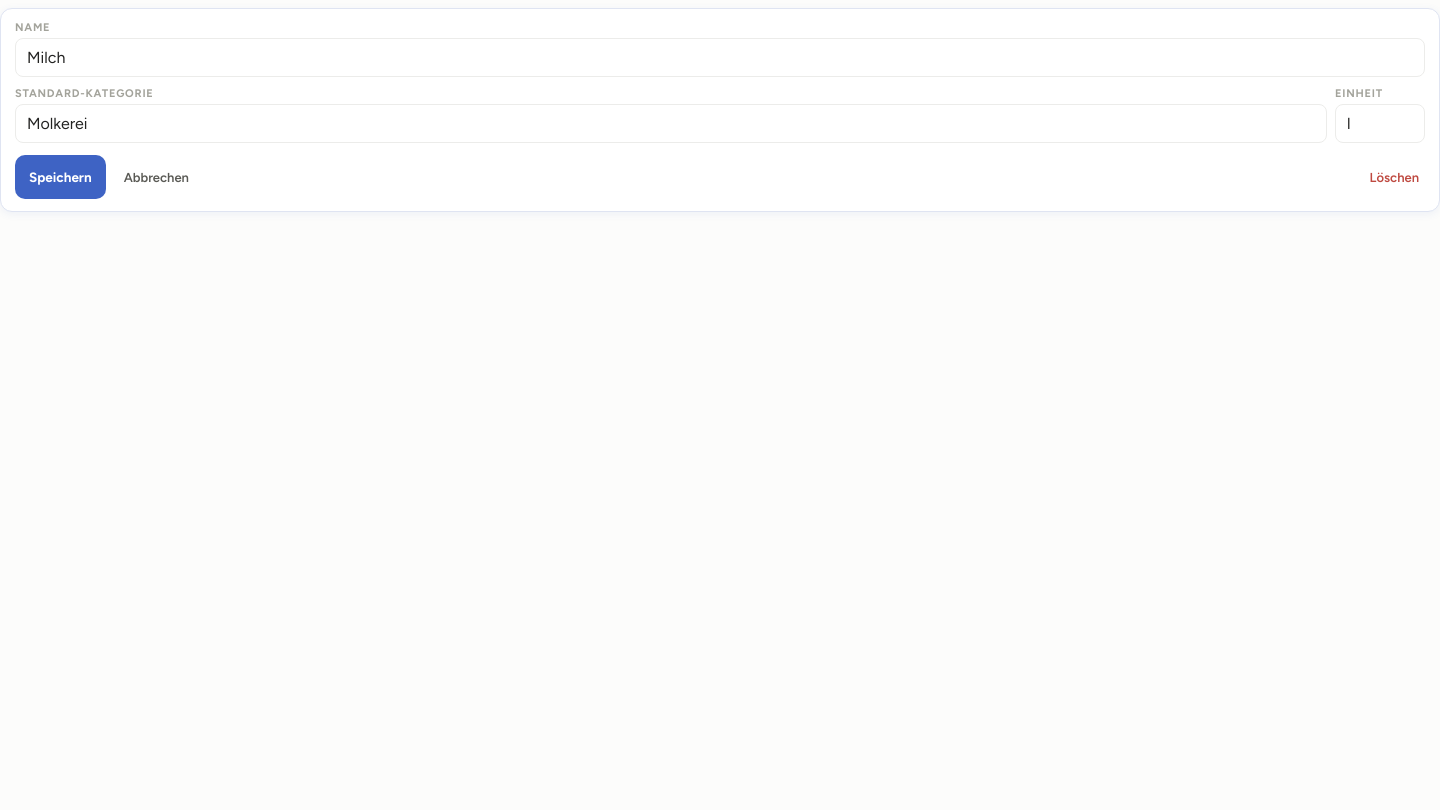
Test case: CatalogEditPanel › asks for confirmation before deleting
Step 1. Click the button "Löschen" → (1394, 177), box [1364,168,1425,186]
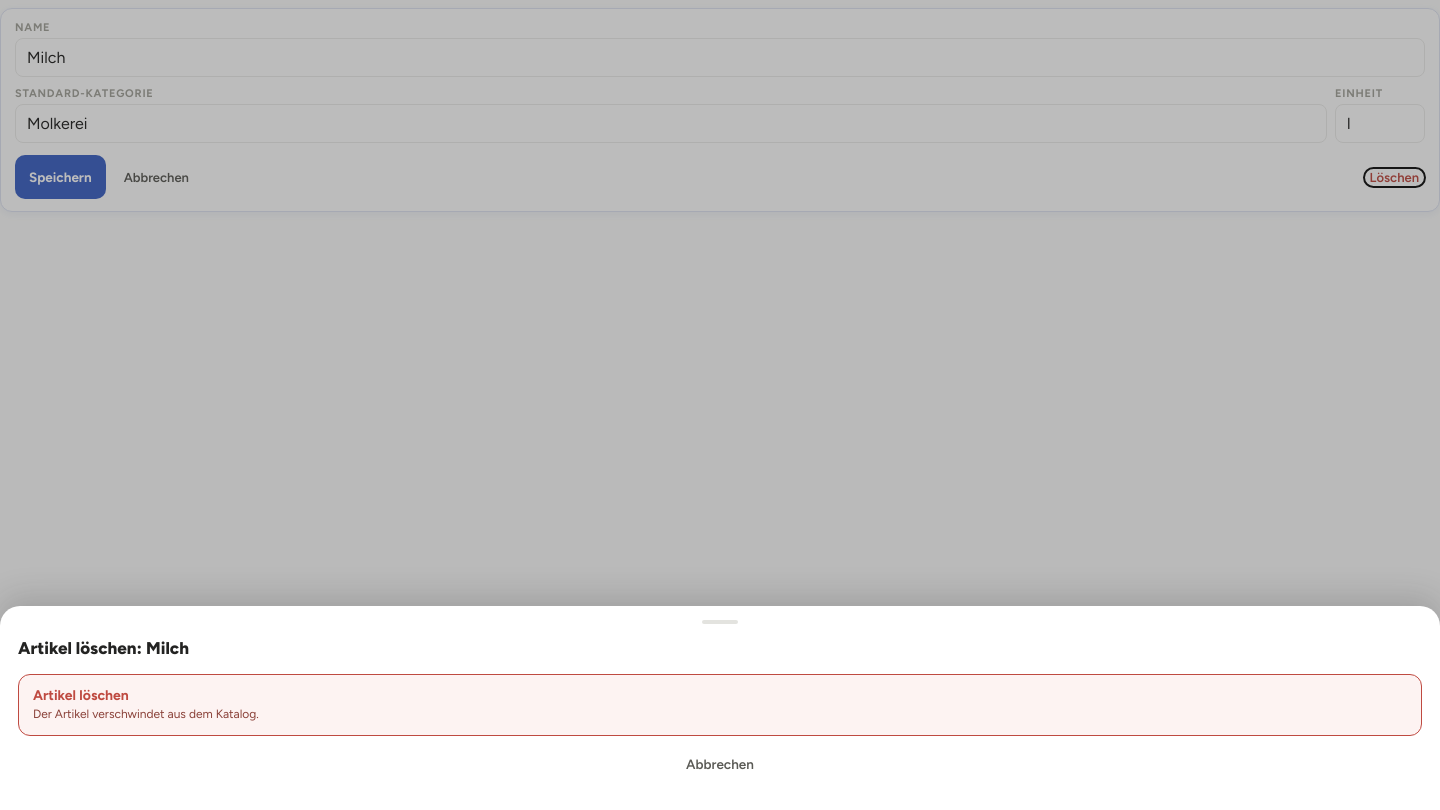
Check: the dialog "Artikel löschen: Milch" is shown, box [0,606,1439,809]
Step 2. Click the button "Artikel löschen Der Artikel verschwindet aus dem Katalog." → (81, 695), box [18,674,1422,736]
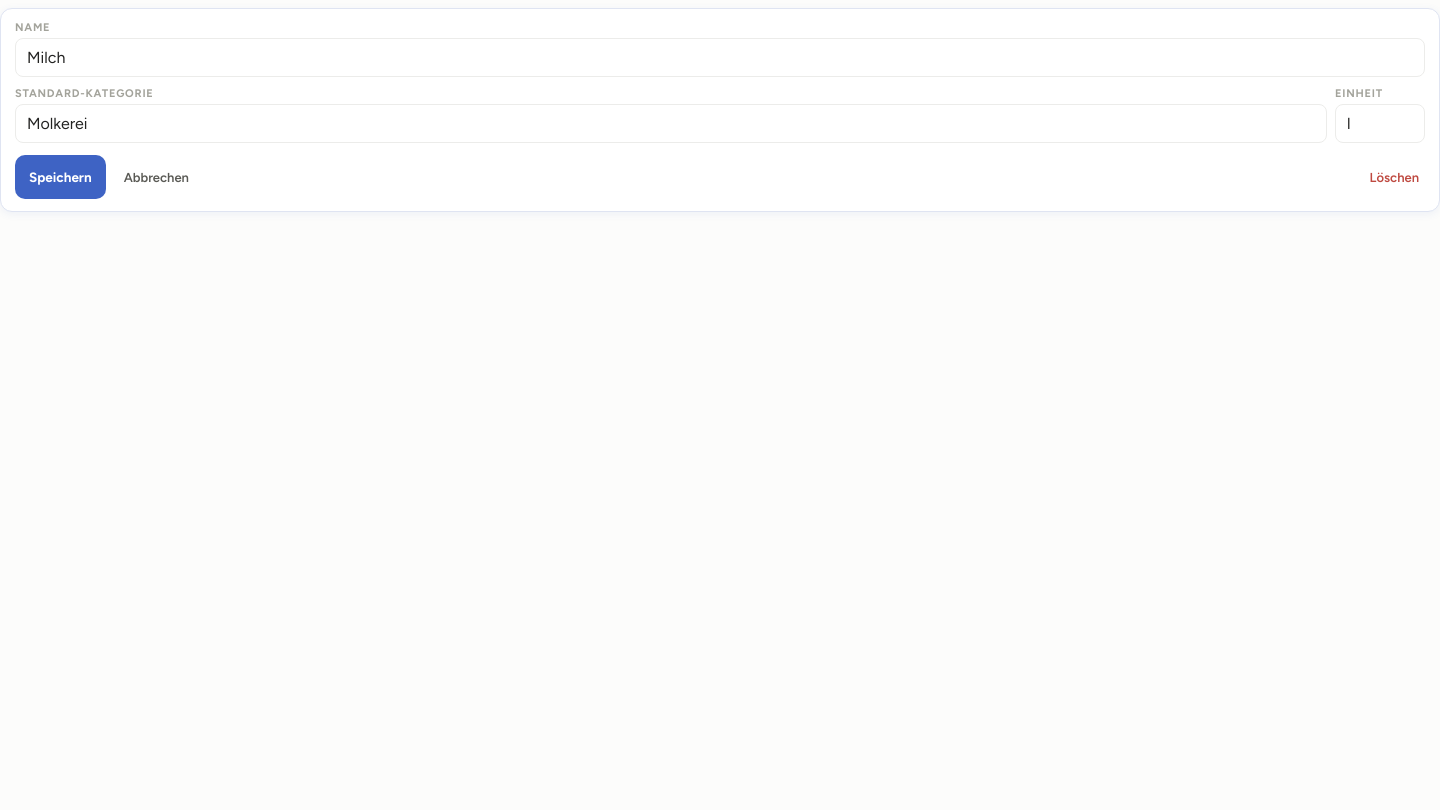
Check: the heading "Artikel löschen: Milch" is gone
